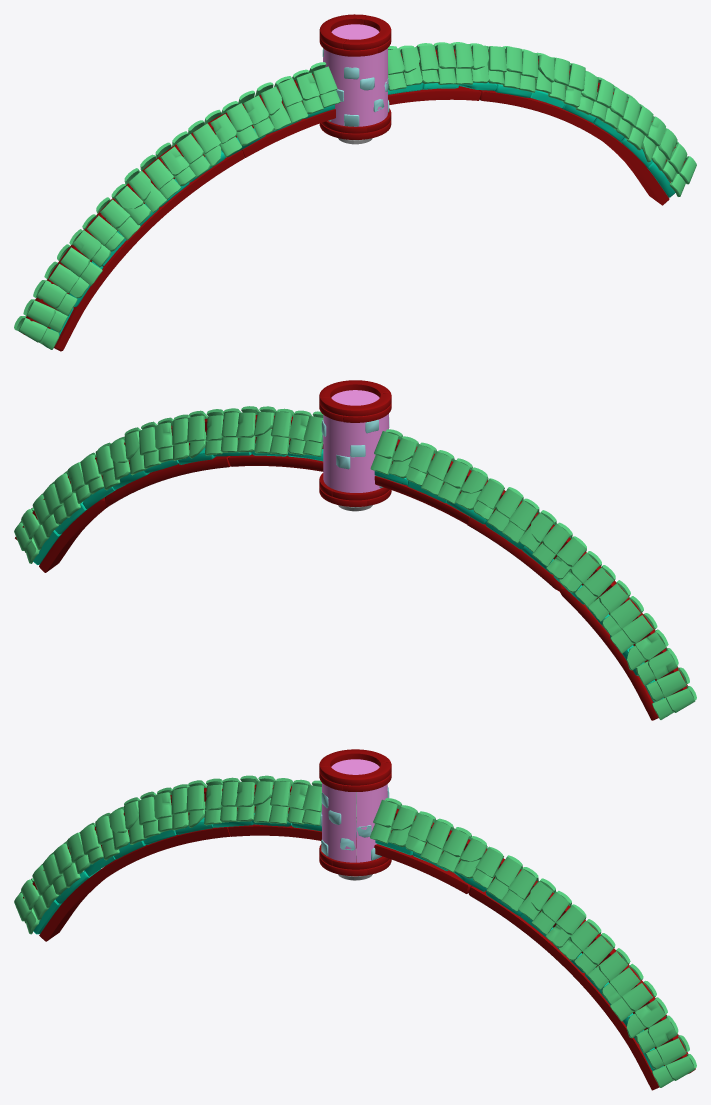
Rendered from arch02.fbx.
3 renders of one model, top to bottom at view 1: azimuth 30°, elevation 25°; view 2: azimuth 150°, elevation 25°; view 3: azimuth 330°, elevation 25°, orthographic.
Parts seen in each view (by area): view 1: arch01; view 2: arch01; view 3: arch01.
Part boxes in pixels (left/top/right/bottom): arch01: left=14, top=14, right=696, bottom=351; arch01: left=14, top=380, right=696, bottom=720; arch01: left=14, top=749, right=696, bottom=1090.
Bounding box in the file's own units: 19.51 × 6.74 × 1.79.
